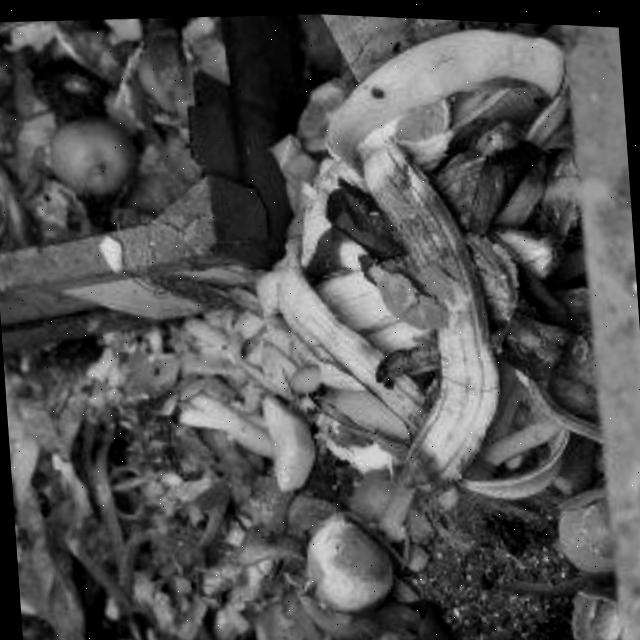Garbage: (0, 12, 640, 640)
